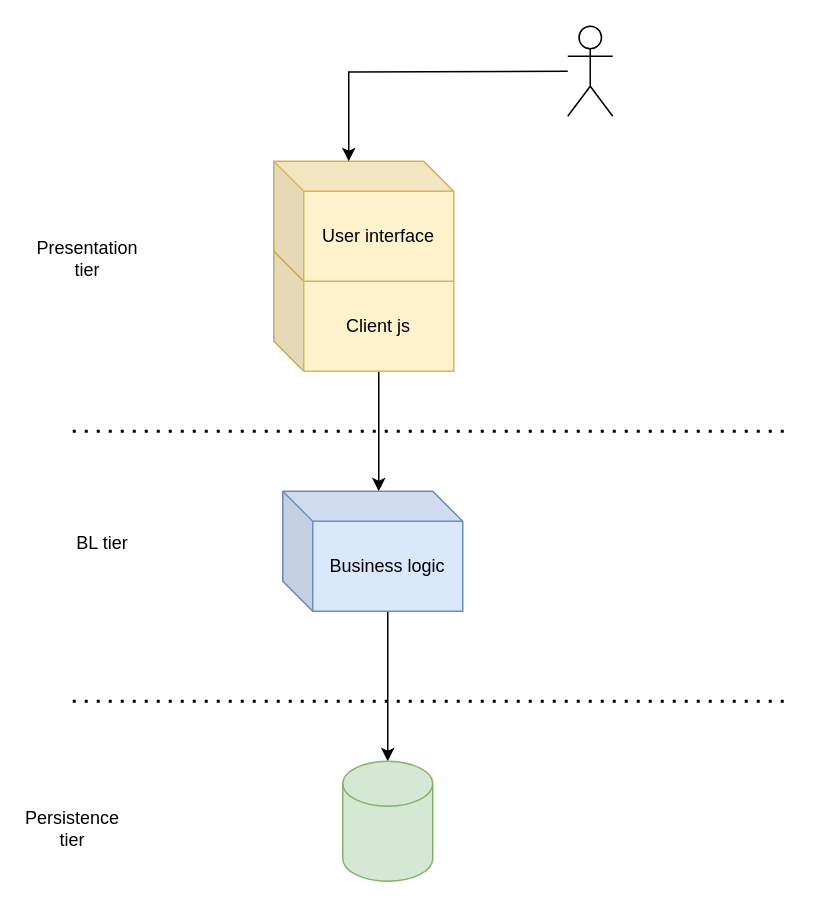
Image size: 822x908. Some labels were removed from this diagram. The centre of each missing label's shape, as x and y in pixels:
Actor: pixel 589 70
DBMS: pixel 387 820
